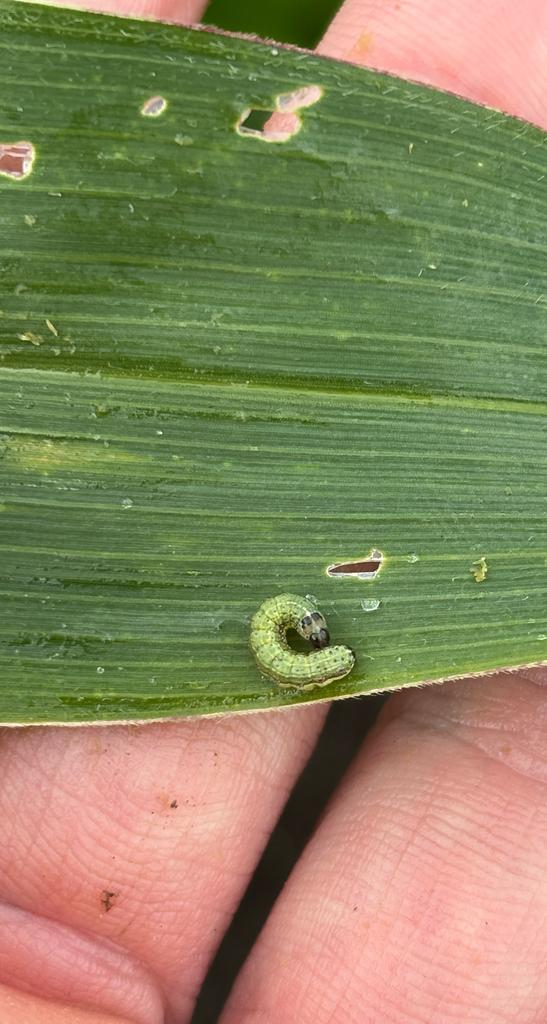caterpillars: (216, 557, 371, 724)
